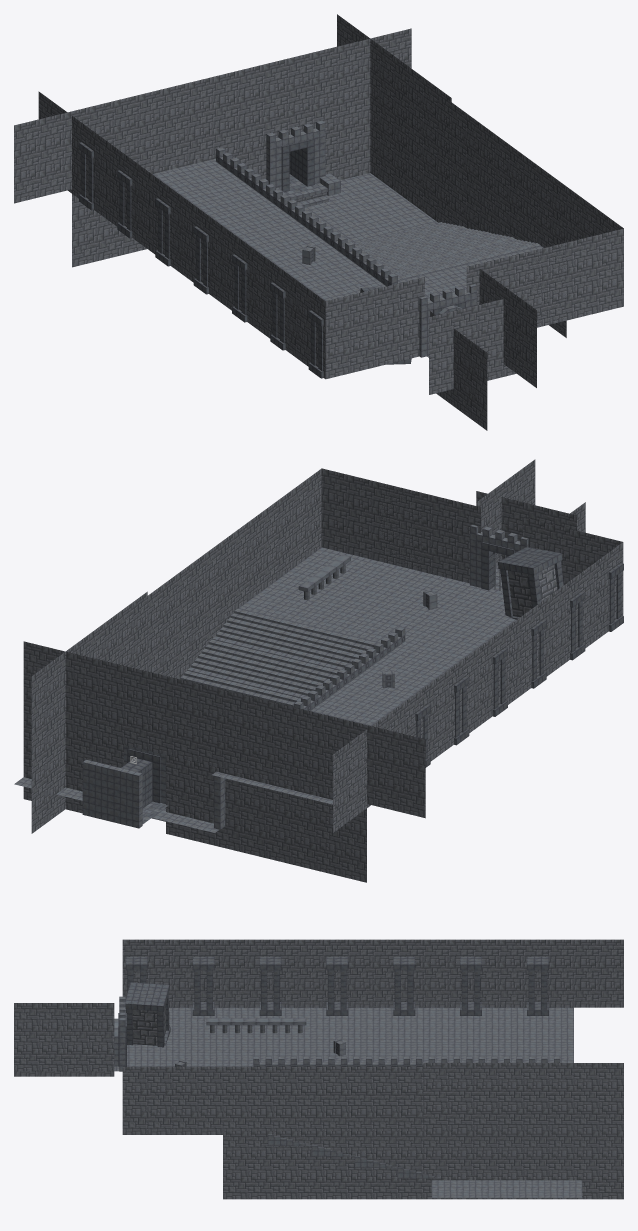
Rendered from StagePanel2.fbx.
The picture shows the model from 3 angles, top to bottom: view 1: azimuth 30°, elevation 25°; view 2: azimuth 150°, elevation 25°; view 3: azimuth 270°, elevation 25°; orthographic projection. The views are drawn at different scales.
Parts seen in each view (by area): view 1: Castle_Gate_4, Castle_Gate_5_Bars__1_, Castle_Ground___Bright_8x8__42_, Castle_Ground___Bright_8x8__17_, Castle_Ground___Bright_8x8__5_, Castle_Ground___Bright_8x8__14_, Castle_Ground___Bright_8x8__11_, Castle_Ground___Bright_8x8__45_, Castle_Ground___Bright_8x8__20_, Castle_Ground___Bright_8x8__8_, Castle_Ground___Bright_8x8__40_, Castle_Tower_1_Empty__1_ (+88 smaller); view 2: Castle_Wall_12__11_, Castle_Tower_4__1_, Castle_Gate_5_Bars__1_, Castle_Ground___Bright_8x8__23_, Castle_Ground___Bright_8x8__30_, Castle_Ground___Bright_8x8__33_, Castle_Ground___Bright_8x8__31_, Castle_Ground___Bright_8x8__4_, Castle_Ground___Bright_8x8__34_, Castle_Ground___Bright_8x8__27_, Castle_Ground___Bright_8x8__29_, Castle_Ground___Bright_8x8__26_ (+114 smaller); view 3: Castle_Tower_4__1_, Castle_Tower_1_Empty__1_, Castle_Tower_1_Empty__2_, Castle_Tower_1_Empty__3_, Castle_Tower_1_Empty__4_, Castle_Tower_1_Empty__5_, Castle_Tower_1_Empty__7_, Castle_Ground___Bright_8x8__10_, Castle_Ground___Bright_8x8__13_, Castle_Ground___Bright_8x8__16_, Castle_Ground___Bright_8x8__19_, Castle_Ground___Bright_8x8__21_ (+184 smaller).
Boxes of the visible parts, x1,y1,x2,y2 form: Castle_Gate_4: (266, 120, 325, 191); Castle_Gate_5_Bars__1_: (419, 284, 477, 357); Castle_Ground___Bright_8x8__42_: (332, 189, 409, 221); Castle_Ground___Bright_8x8__17_: (196, 177, 264, 207); Castle_Ground___Bright_8x8__5_: (310, 261, 378, 291); Castle_Ground___Bright_8x8__14_: (224, 198, 292, 228); Castle_Ground___Bright_8x8__11_: (253, 219, 321, 249); Castle_Ground___Bright_8x8__45_: (360, 210, 429, 236); Castle_Ground___Bright_8x8__20_: (172, 159, 235, 186); Castle_Ground___Bright_8x8__8_: (282, 240, 350, 270); Castle_Ground___Bright_8x8__40_: (304, 201, 359, 228); Castle_Tower_1_Empty__1_: (270, 282, 285, 350); Castle_Wall_12__11_: (82, 759, 142, 828); Castle_Tower_4__1_: (497, 547, 563, 619); Castle_Gate_5_Bars__1_: (470, 525, 528, 590); Castle_Ground___Bright_8x8__23_: (415, 605, 493, 638); Castle_Ground___Bright_8x8__30_: (314, 581, 392, 613); Castle_Ground___Bright_8x8__33_: (343, 559, 421, 592); Castle_Ground___Bright_8x8__31_: (364, 593, 442, 626); Castle_Ground___Bright_8x8__4_: (394, 626, 464, 659); Castle_Ground___Bright_8x8__34_: (393, 571, 469, 605); Castle_Ground___Bright_8x8__27_: (288, 602, 363, 632); Castle_Ground___Bright_8x8__29_: (238, 590, 313, 620); Castle_Ground___Bright_8x8__26_: (444, 585, 504, 617); Castle_Tower_4__1_: (125, 982, 170, 1047); Castle_Tower_1_Empty__1_: (192, 956, 214, 1015); Castle_Tower_1_Empty__2_: (259, 956, 281, 1015); Castle_Tower_1_Empty__3_: (393, 956, 415, 1015); Castle_Tower_1_Empty__4_: (326, 956, 348, 1015); Castle_Tower_1_Empty__5_: (527, 956, 548, 1015); Castle_Tower_1_Empty__7_: (460, 956, 481, 1015); Castle_Ground___Bright_8x8__10_: (373, 1029, 423, 1049); Castle_Ground___Bright_8x8__13_: (423, 1029, 473, 1049); Castle_Ground___Bright_8x8__16_: (473, 1029, 523, 1049); Castle_Ground___Bright_8x8__19_: (523, 1029, 573, 1049); Castle_Ground___Bright_8x8__21_: (172, 1029, 222, 1049).
Bounding box in the file's own units: 4800 × 1800 × 7300.
Materials: 2 (2 with a texture image).
